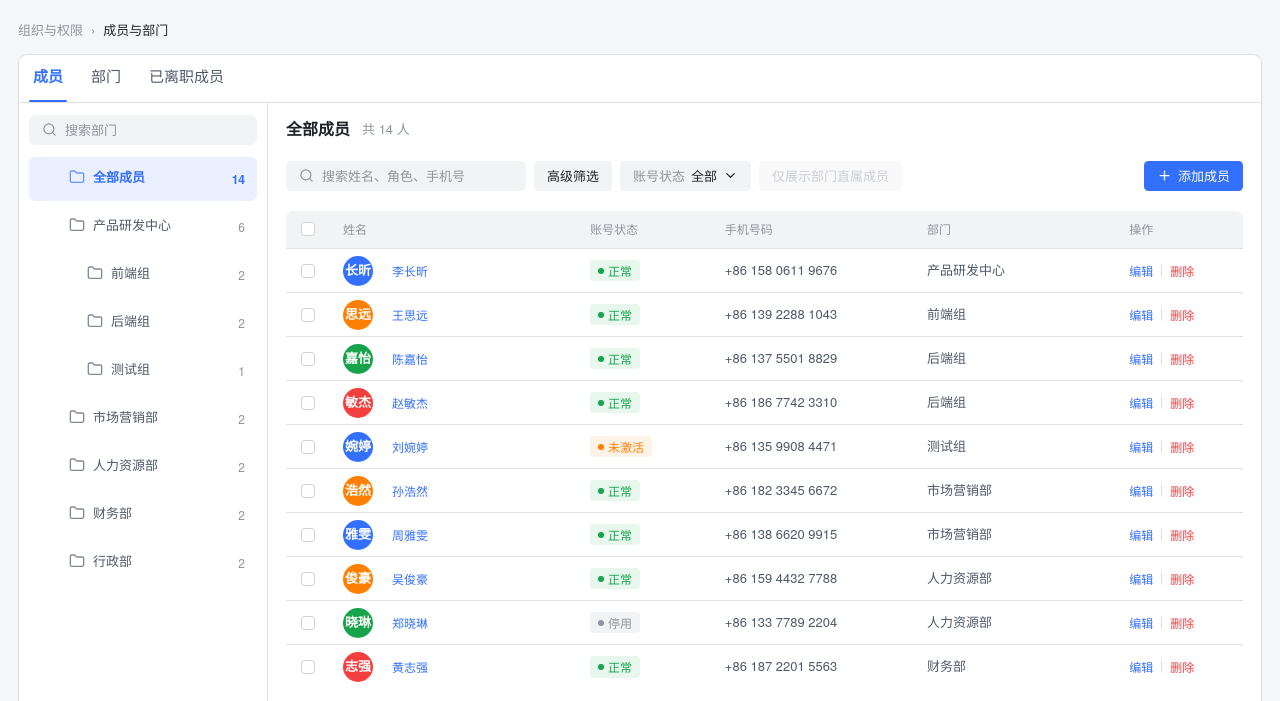
users page keeps department tree only in active members tab
Check: the text "成员与部门" is shown, box left=103, top=20, right=168, bottom=40
Check: the text "李长昕" is shown, box left=392, top=262, right=428, bottom=278
Click the tab "部门": (106, 83) left=87, top=65, right=125, bottom=102
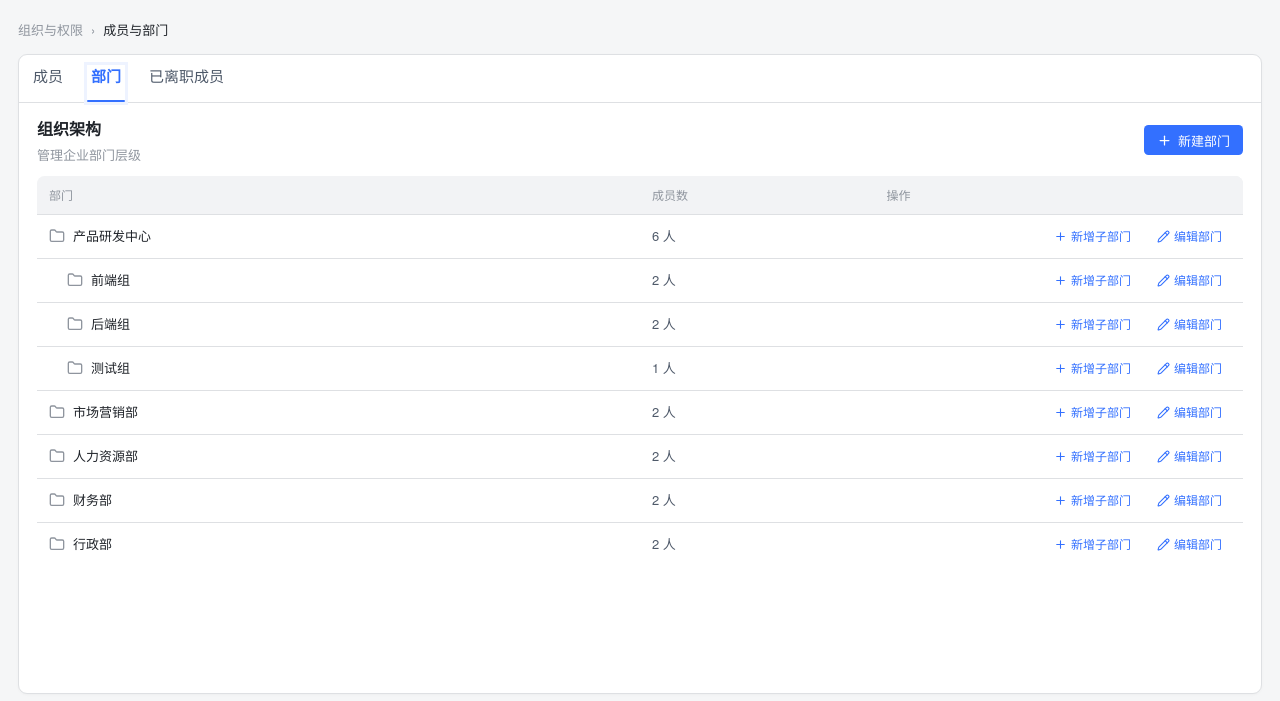
Check: the text "组织架构" is shown, box left=37, top=116, right=101, bottom=140
Check: the text "产品研发中心" is shown once, box left=73, top=227, right=151, bottom=245
Click the tab "已离职成员": (186, 83) left=145, top=65, right=228, bottom=102
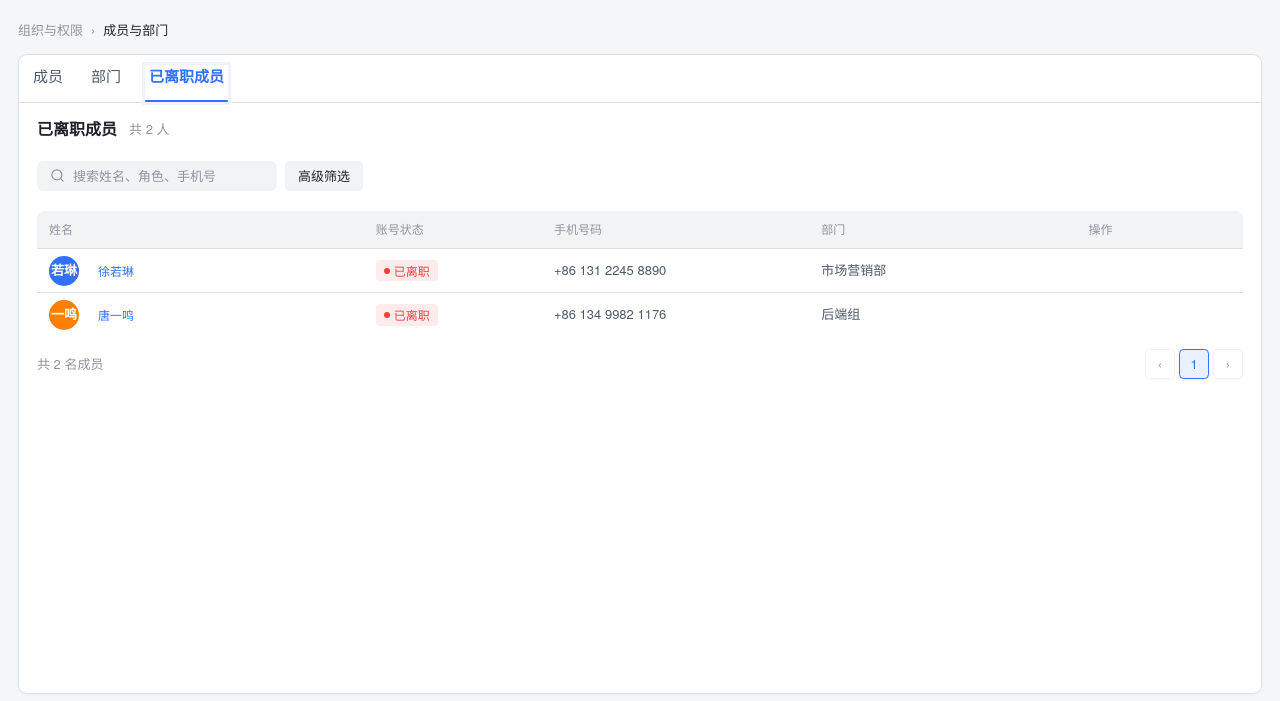
Check: the text "徐若琳" is shown, box left=98, top=262, right=134, bottom=278
